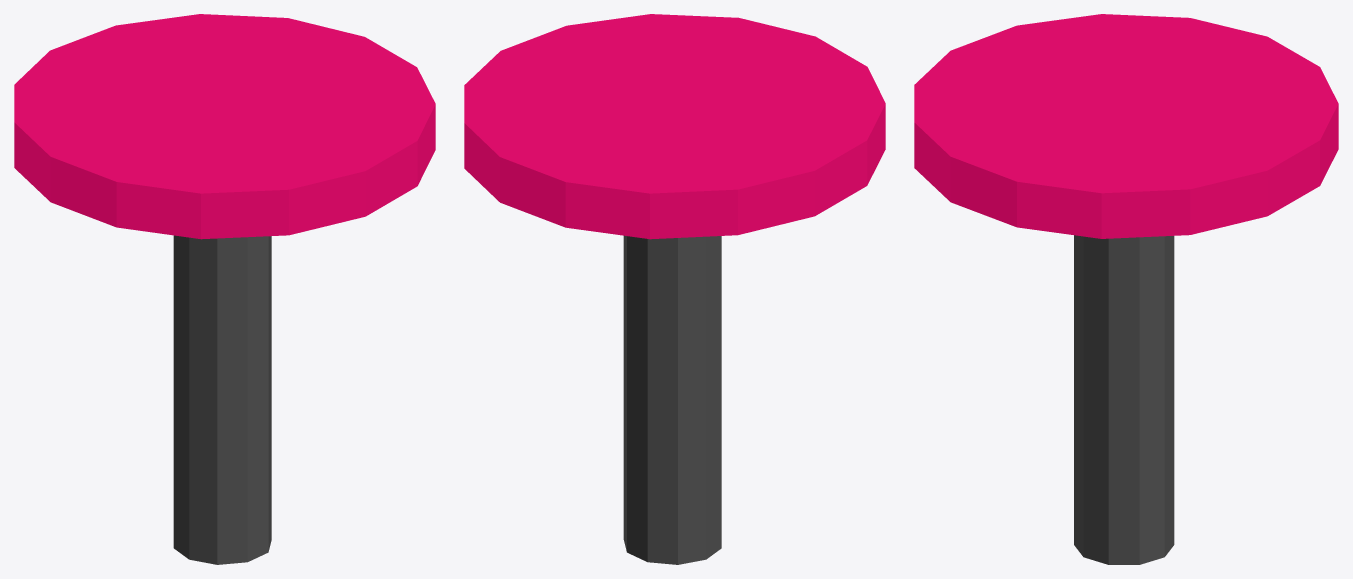
File: table.fbx
3 renders of one model, left to right at view 1: azimuth 30°, elevation 25°; view 2: azimuth 150°, elevation 25°; view 3: azimuth 270°, elevation 25°, orthographic.
Parts seen in each view (by area): view 1: top.001, Table; view 2: top.001, Table; view 3: top.001, Table.
Part boxes in pixels (box(x1,y1,x2,y2)): top.001: box(14, 14, 435, 239); Table: box(173, 235, 271, 564); top.001: box(464, 14, 885, 239); Table: box(623, 235, 721, 564); top.001: box(914, 14, 1338, 238); Table: box(1074, 235, 1174, 564).
Bounding box in the file's own units: 0.6 × 0.6884 × 0.6.
